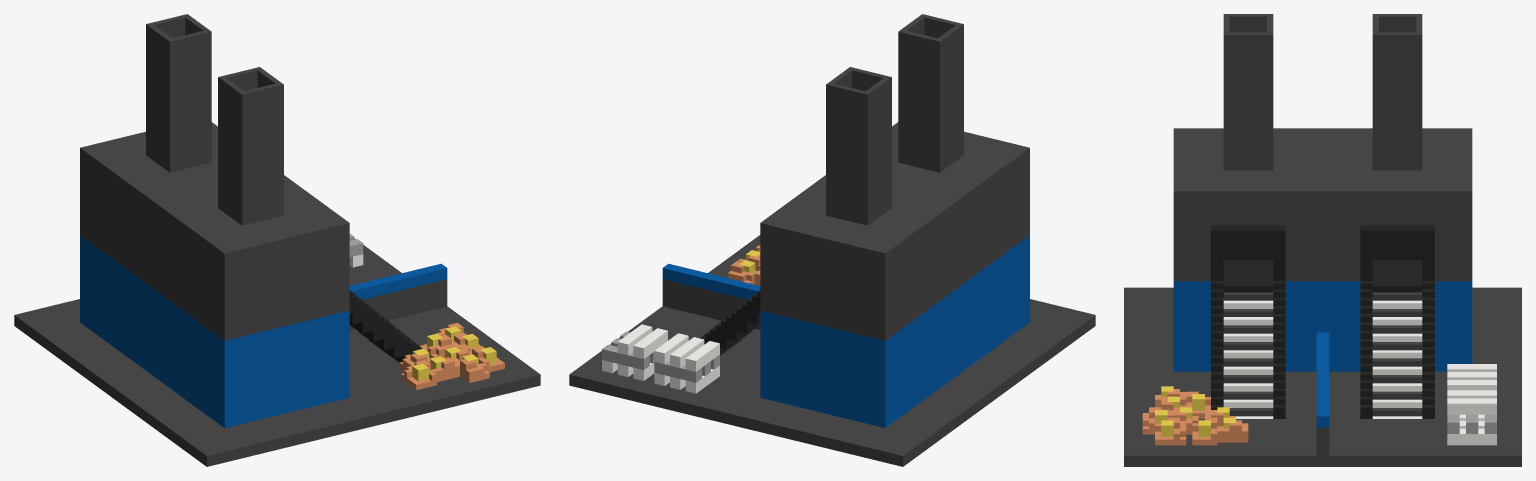
File: Blue-4.obj
3 views of the same model, side by side, from view 1: azimuth 30°, elevation 25°; view 2: azimuth 150°, elevation 25°; view 3: azimuth 270°, elevation 25° (orthographic). The views are drawn at different scales.
Visible parts, largest first — view 1: Blue-4; view 2: Blue-4; view 3: Blue-4.
Part boxes in pixels (x1,y1,x2,y2): Blue-4: (14,14,540,466); Blue-4: (569,14,1095,466); Blue-4: (1124,14,1521,466).
Bounding box in the file's own units: 64 × 58 × 64.
1 material, 1 textured.
